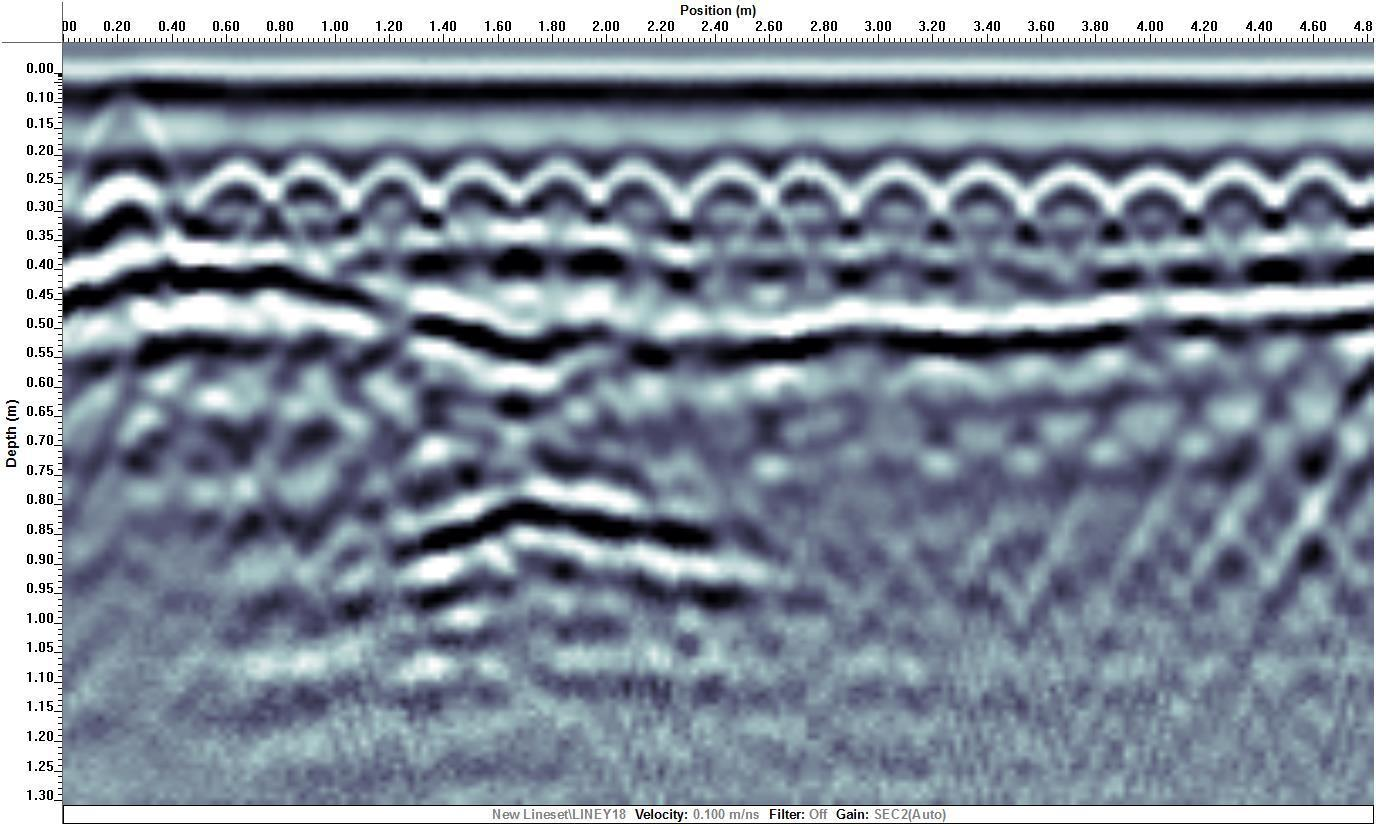hyperbola: (72, 93, 180, 337), (176, 139, 293, 248), (242, 147, 359, 256), (332, 137, 449, 246), (413, 133, 530, 242), (496, 135, 613, 244), (577, 139, 694, 248), (674, 144, 791, 253), (748, 147, 865, 256), (835, 147, 952, 256), (918, 150, 1035, 259), (1017, 154, 1134, 263), (1101, 150, 1218, 259), (1178, 147, 1295, 256), (1259, 145, 1376, 254)
